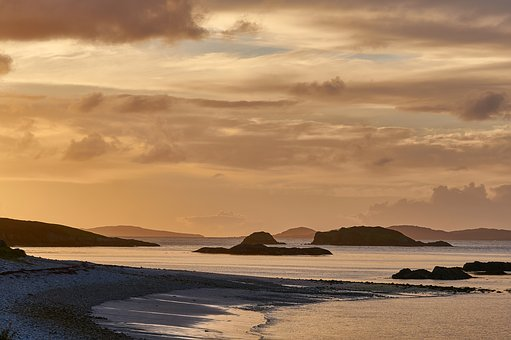sea: (8, 230, 511, 338)
sky: (3, 6, 510, 234)
